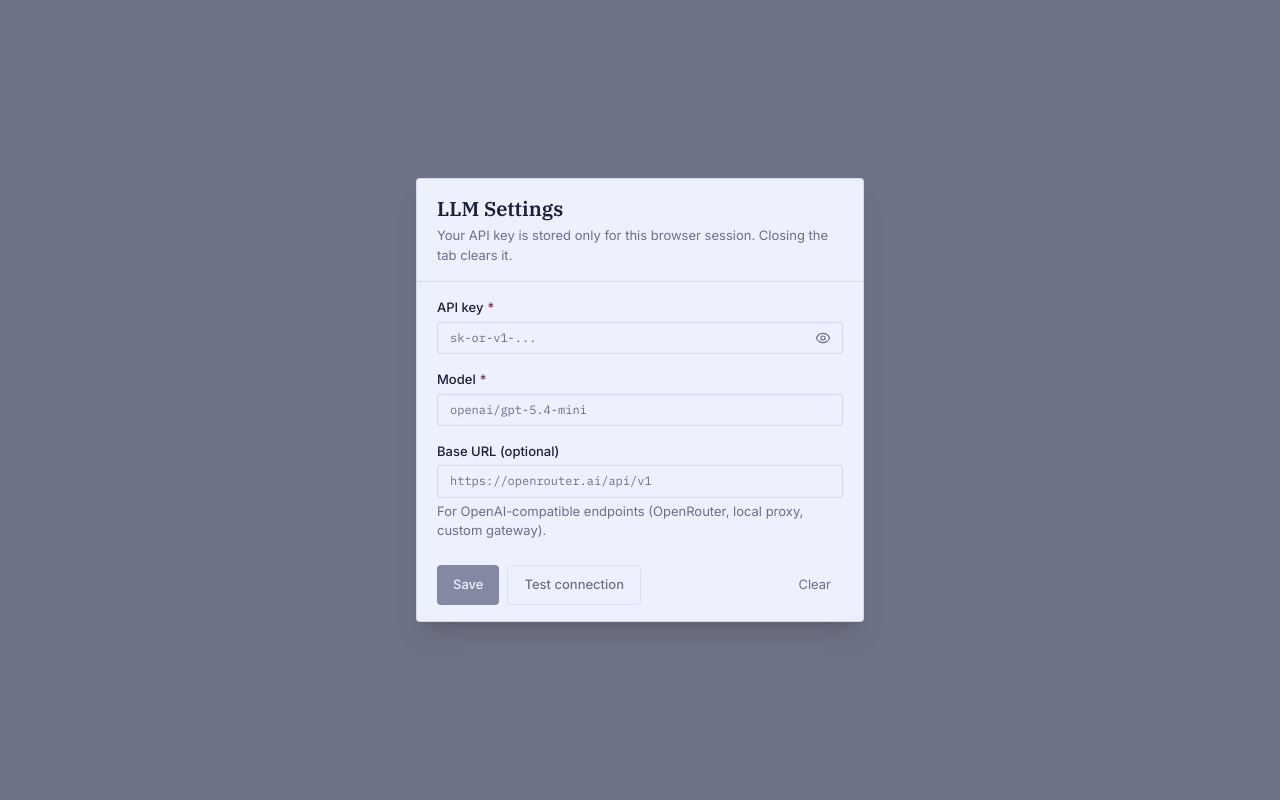
Test: SettingsModal › Save button is disabled until both api_key and model are filled
expect the button "Save" is disabled: met, box [437,565,500,605]
Type "sk-1" into the password field labelled "API key*". click: (640, 338)
box: [437,322,843,354]
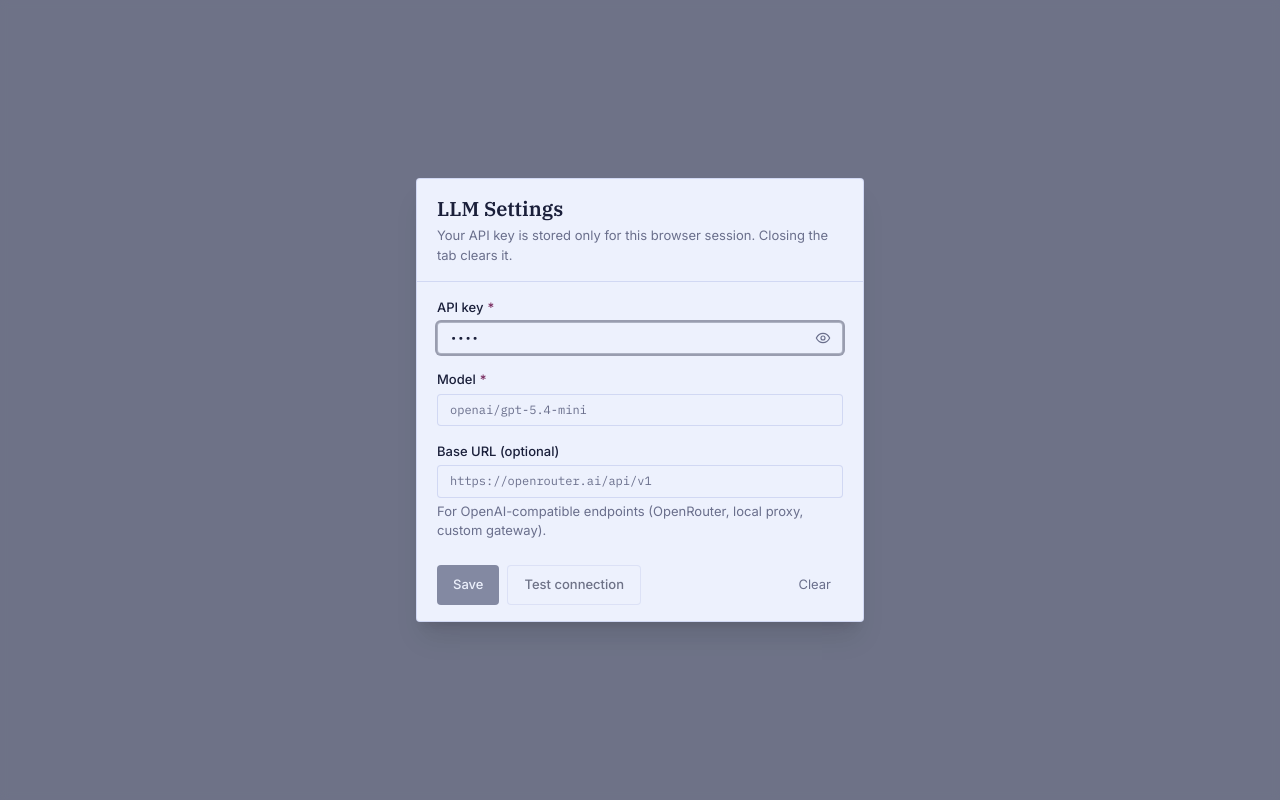
expect the button "Save" is disabled: met, box [437,565,500,605]
Type "openai/gpt" into the field labelled "Model*". click: (640, 410)
box: [437,394,843,426]
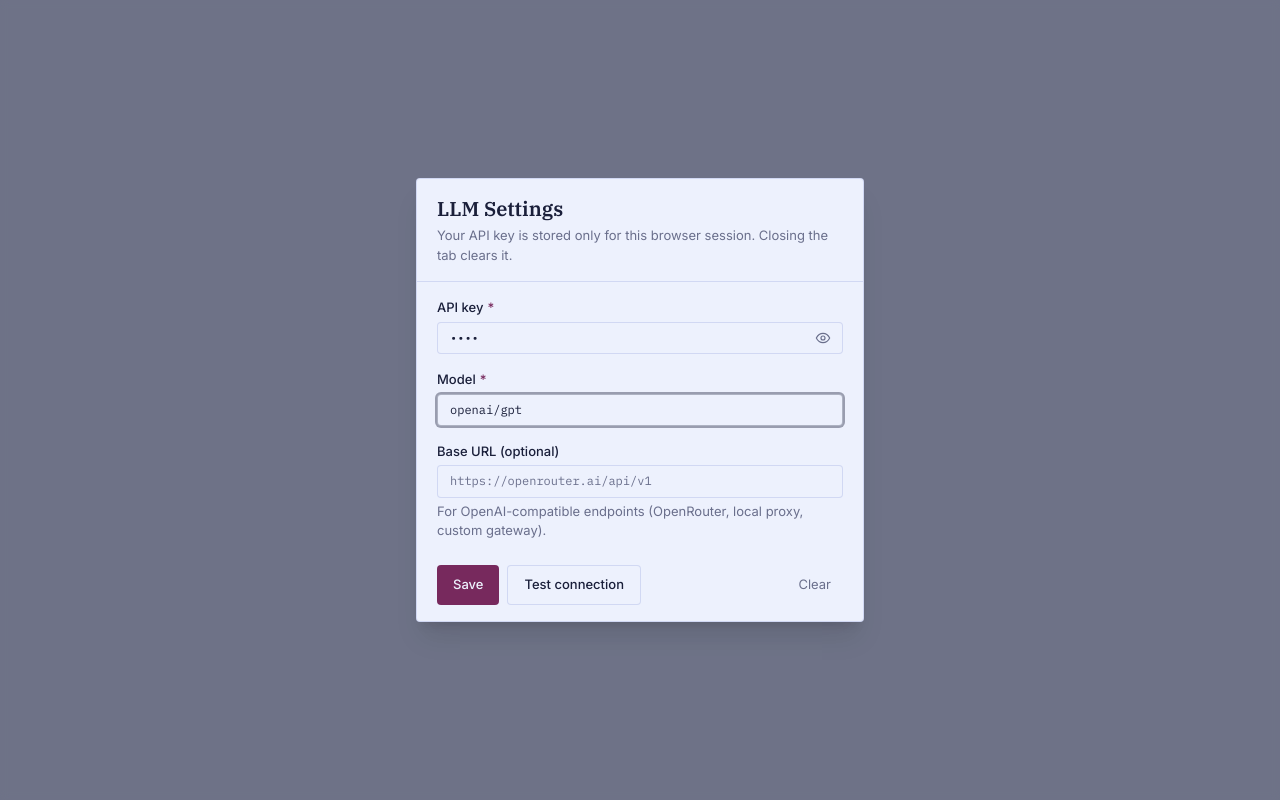
expect the button "Save" is enabled: met, box [437,565,500,605]
